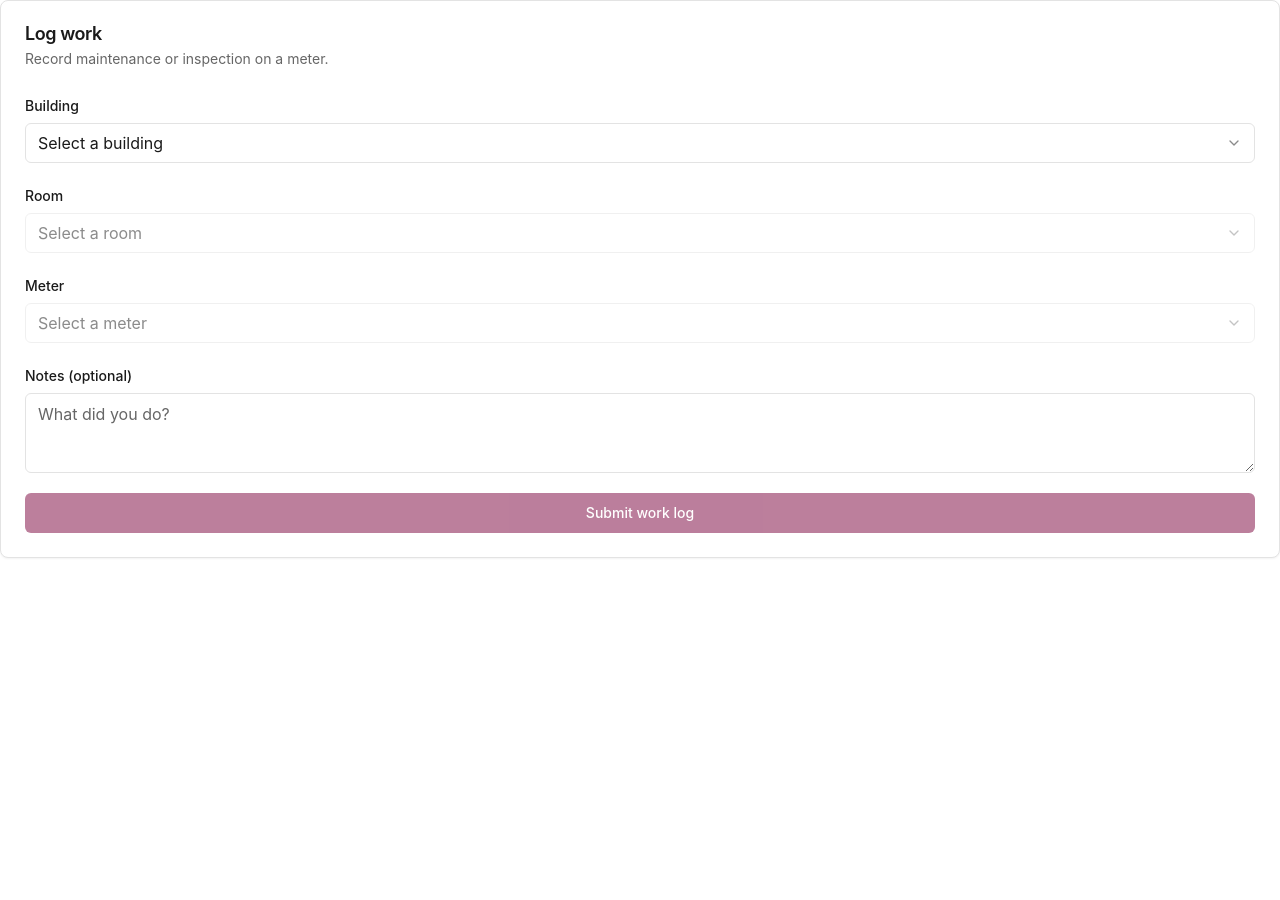
Test: WorkLogForm › AC2: shows the empty-pin state for an electricity-only meter, still submittable
Click the dropdown labelled "building".
click(101, 143)  # box [25,123,1255,163]
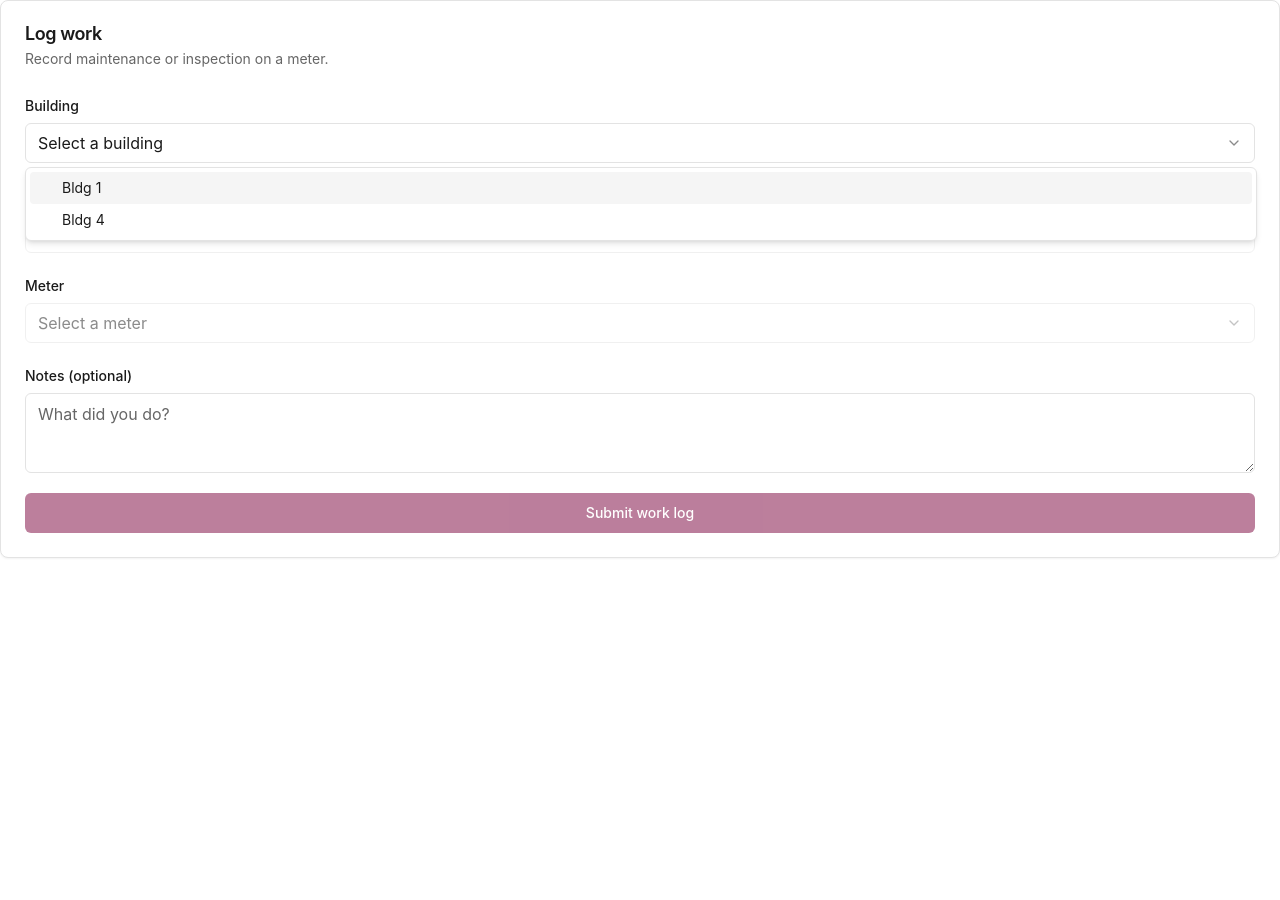
Click the option "Bldg 1".
click(82, 188)  # box [30,172,1252,204]
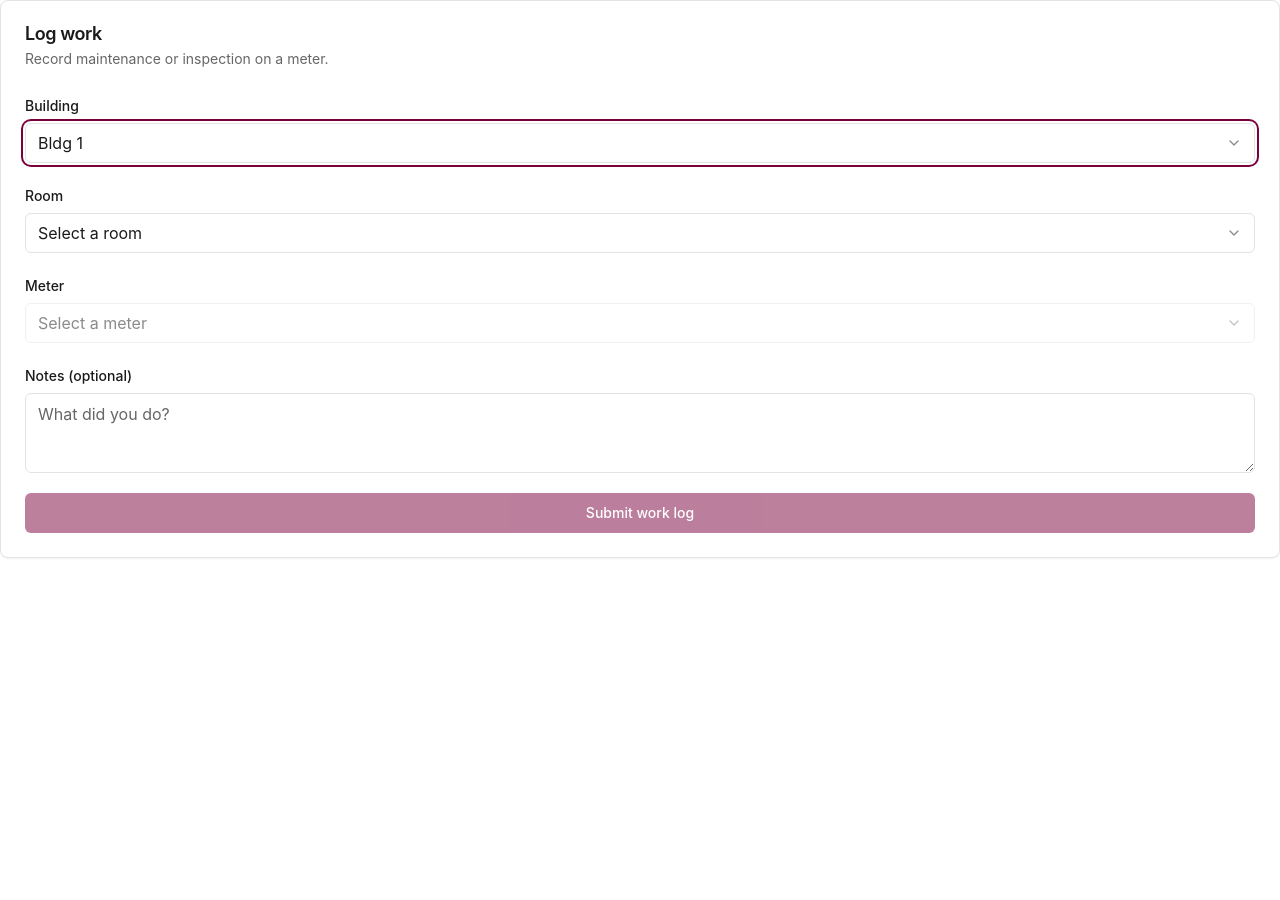
Click the dropdown labelled "room".
click(90, 233)  # box [25,213,1255,253]
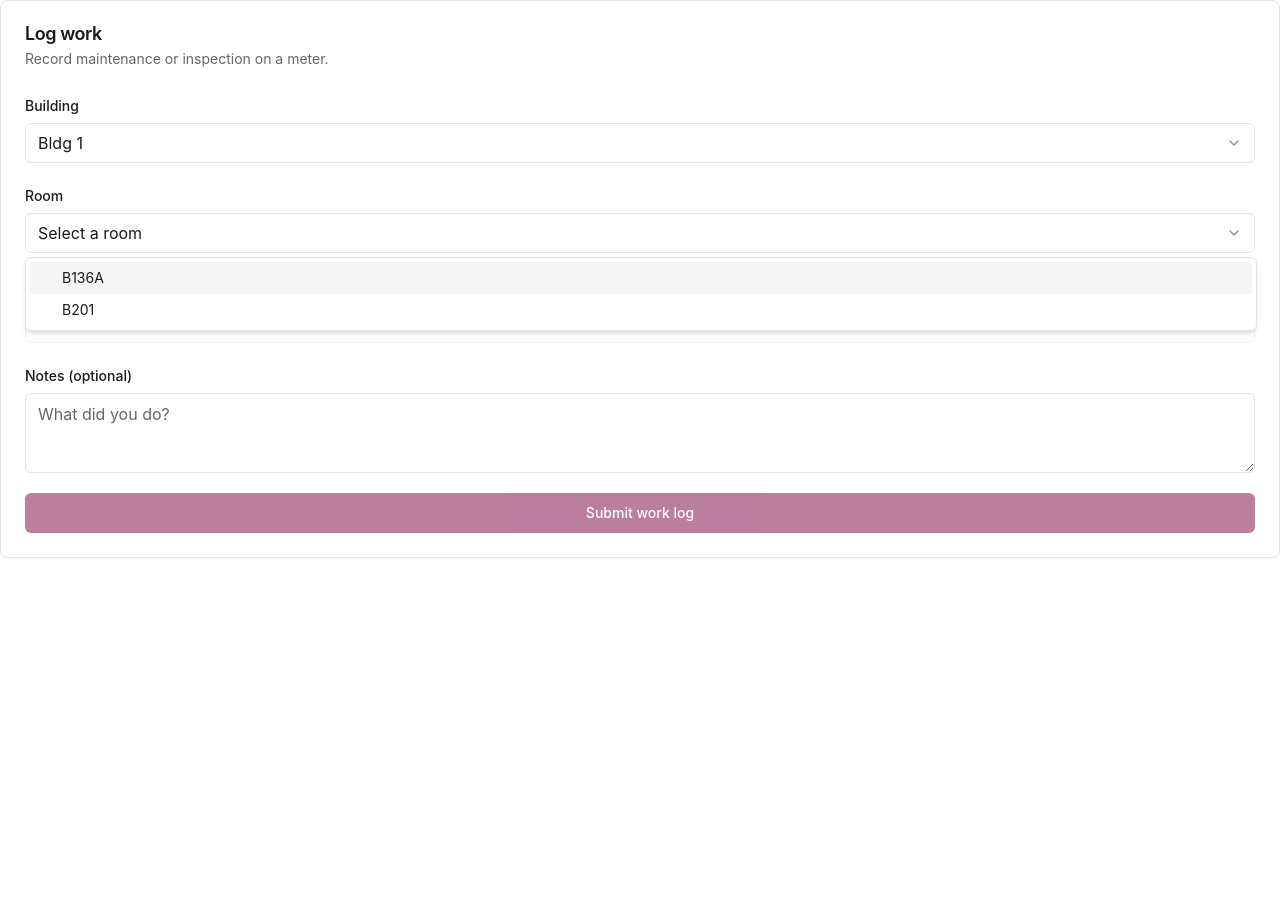
Click the option "B201".
click(78, 310)  # box [62,301,94,318]
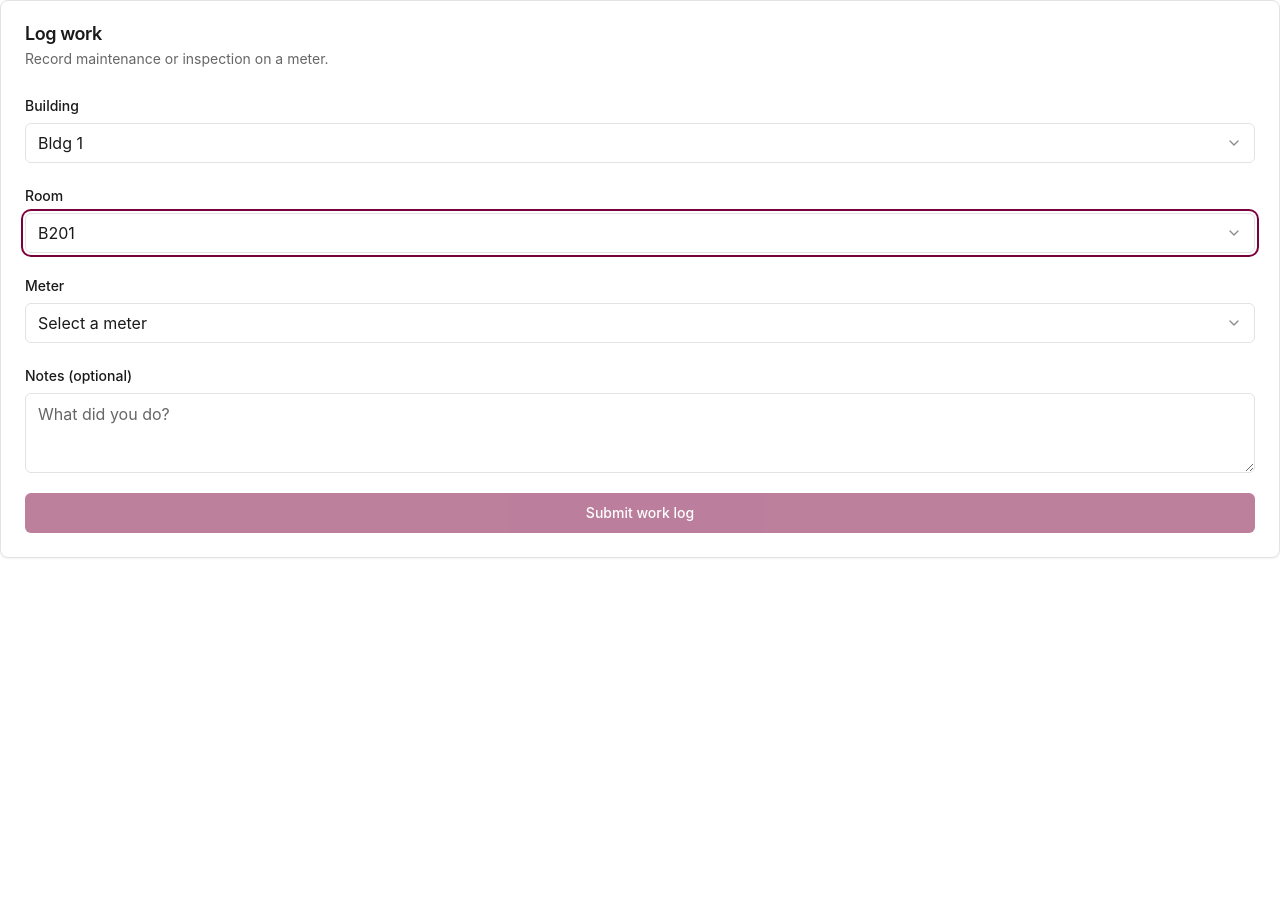
Click the dropdown labelled "meter".
click(92, 323)  # box [25,303,1255,343]
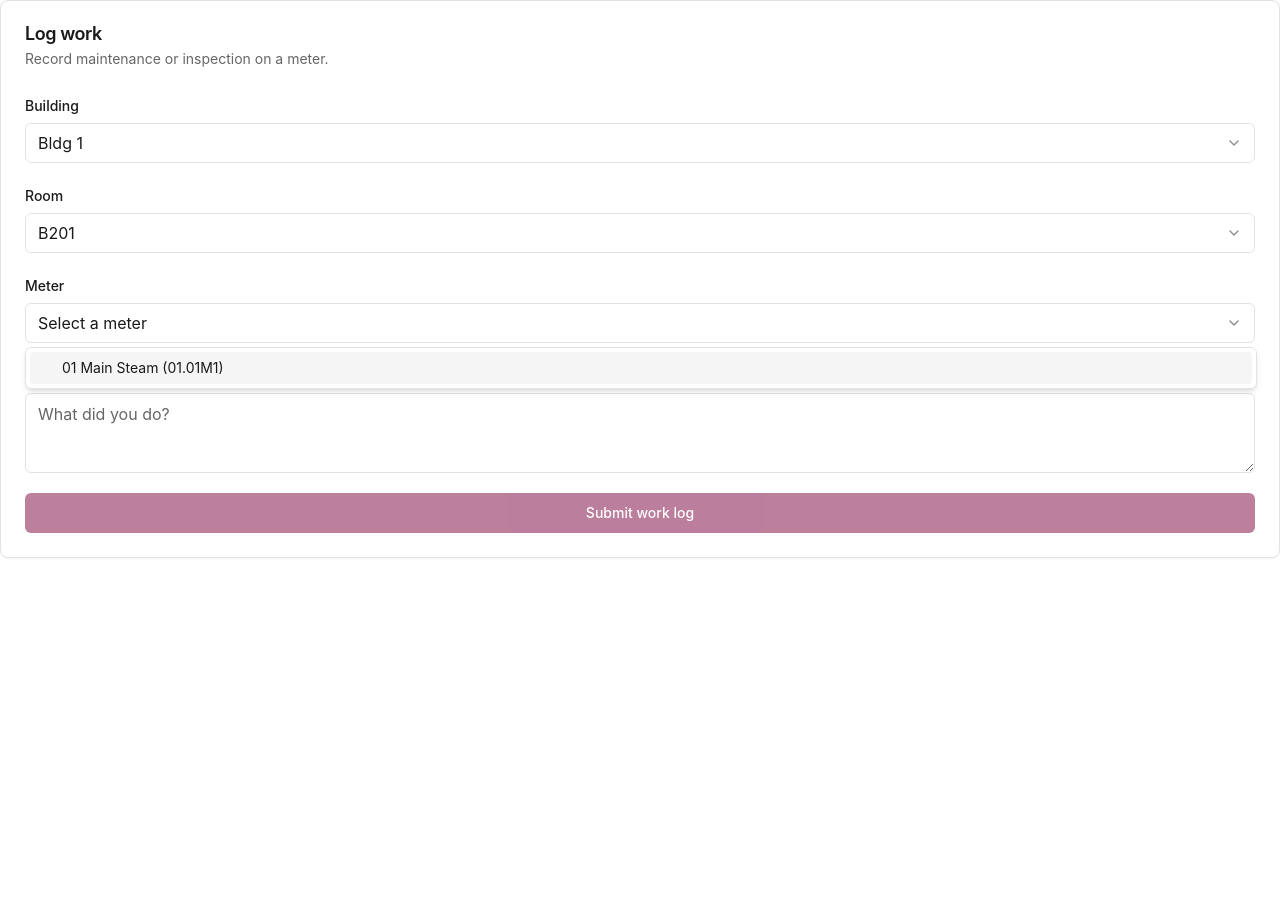
Click the option "01 Main Steam (01.01M1)".
click(110, 368)  # box [30,352,1252,384]
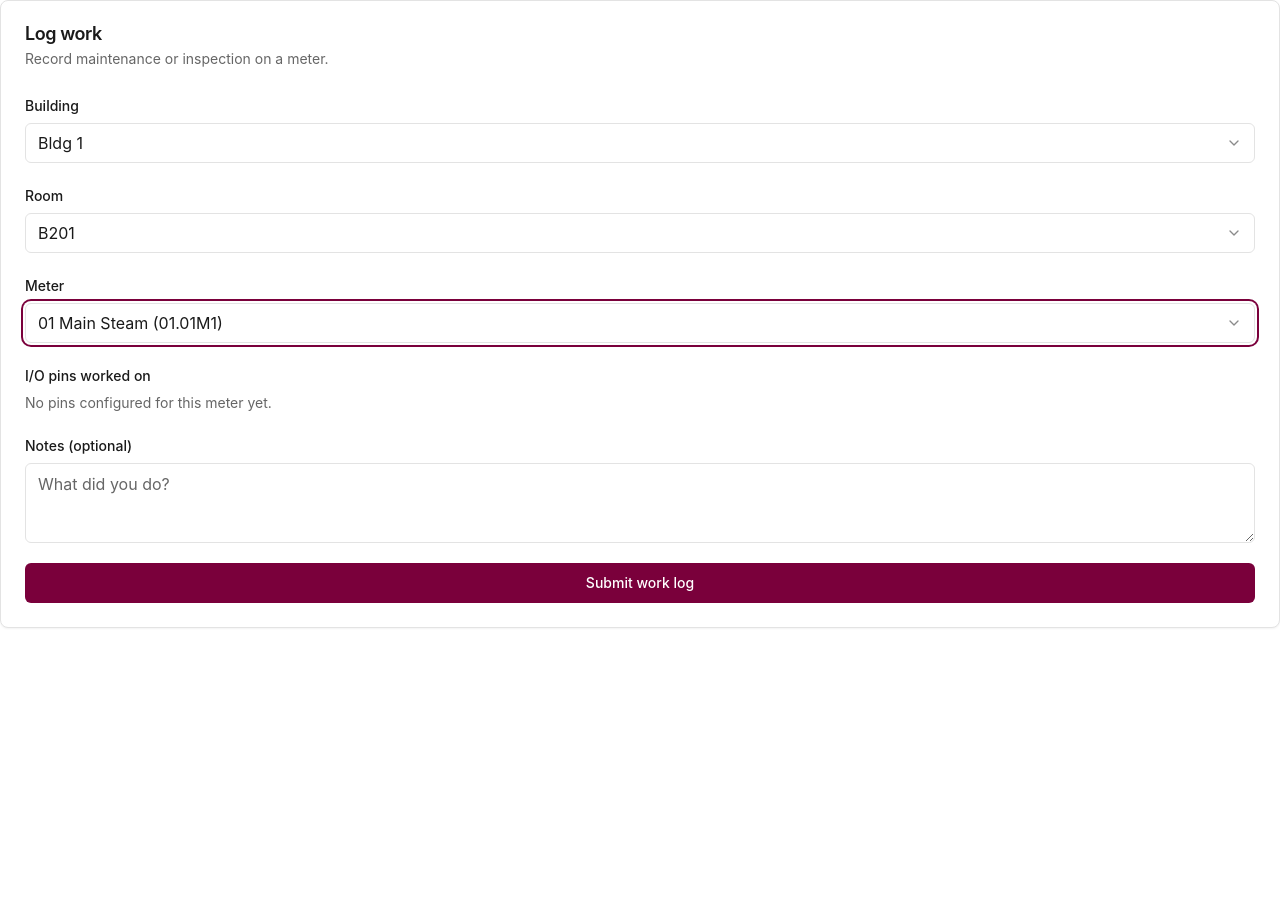
expect the text "No pins configured for this meter yet." is shown: met, box [25,394,272,411]
expect the button "Submit work log" is enabled: met, box [25,563,1255,603]
